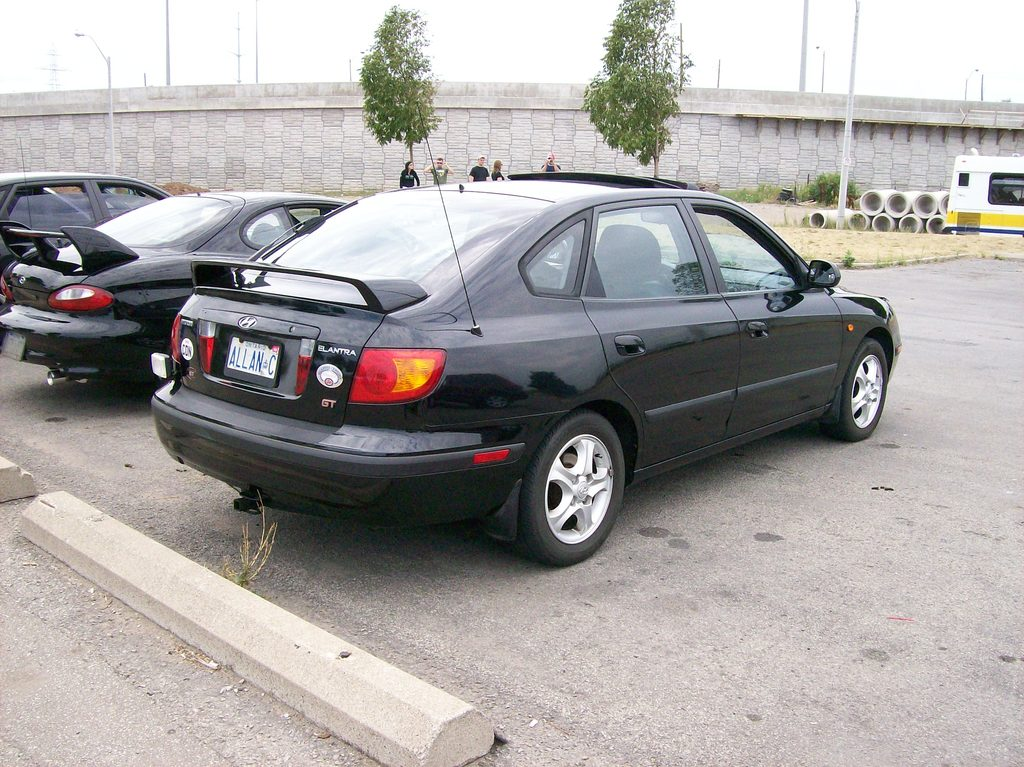car: (135, 151, 928, 592), (1, 165, 373, 392), (1, 135, 192, 279)
